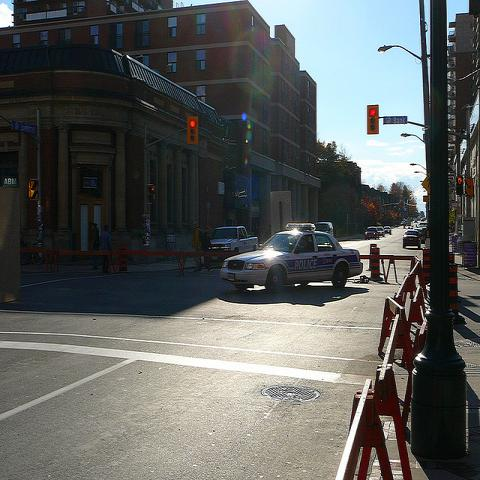car: (220, 229, 365, 297), (404, 230, 421, 250), (313, 221, 334, 237), (364, 226, 380, 240), (414, 227, 427, 244), (376, 226, 385, 237), (384, 226, 392, 235), (419, 222, 427, 226), (401, 221, 406, 225), (410, 217, 413, 222), (421, 218, 424, 222), (405, 221, 408, 224)
truck: (206, 226, 258, 256), (314, 222, 335, 237)
